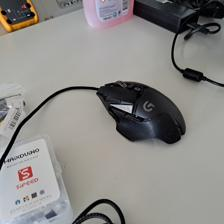mouse: (94, 77, 187, 145)
